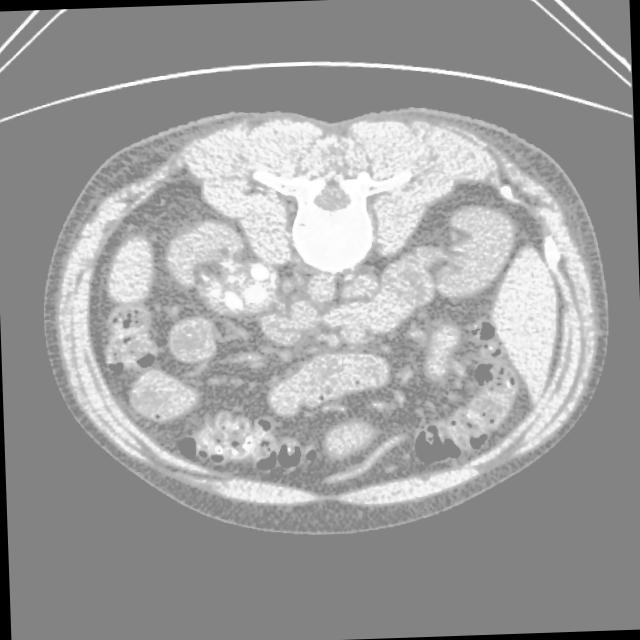STONE: (62, 220, 547, 534)
